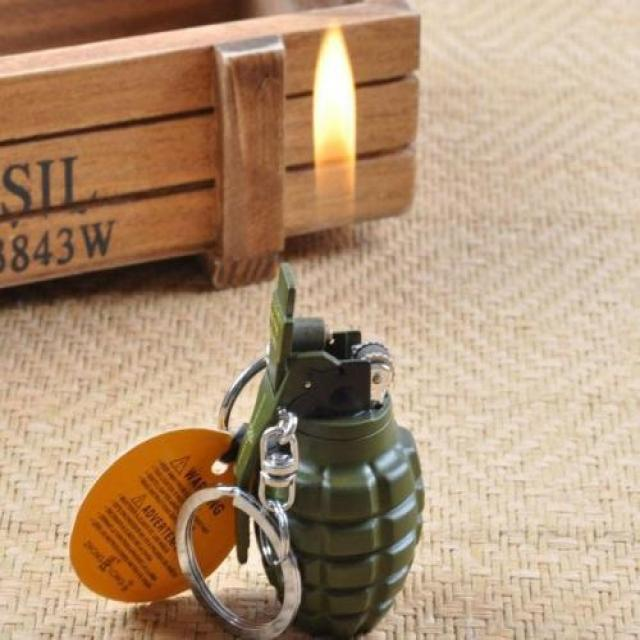Fire: (312, 18, 357, 205)
